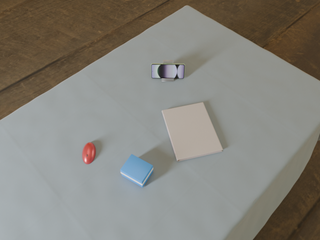book: (162, 102, 223, 161)
box: (120, 154, 153, 187)
mouse: (82, 142, 96, 164)
phone: (151, 64, 185, 78)
